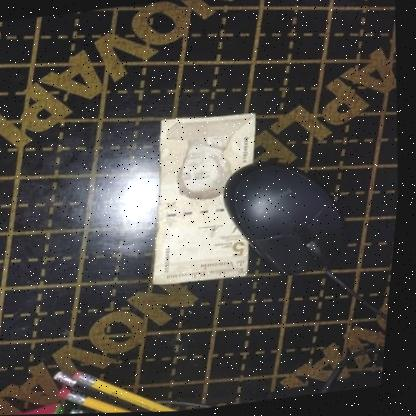vef_front: (140, 109, 274, 287)
